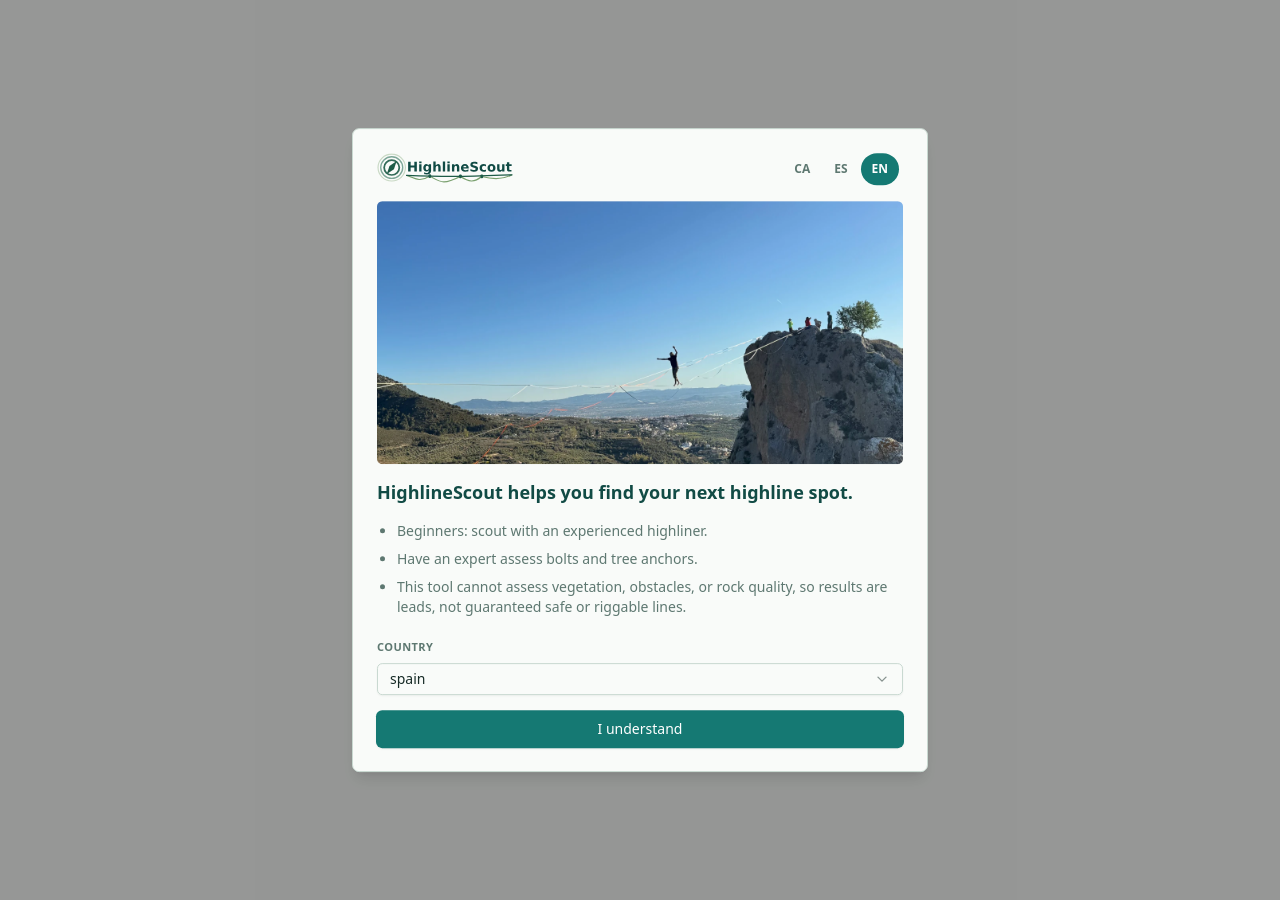
SafetyDisclaimerDialog › shows the active country and available countries
Click the dropdown named "Country".
click(408, 678)  # box left=377, top=663, right=903, bottom=695
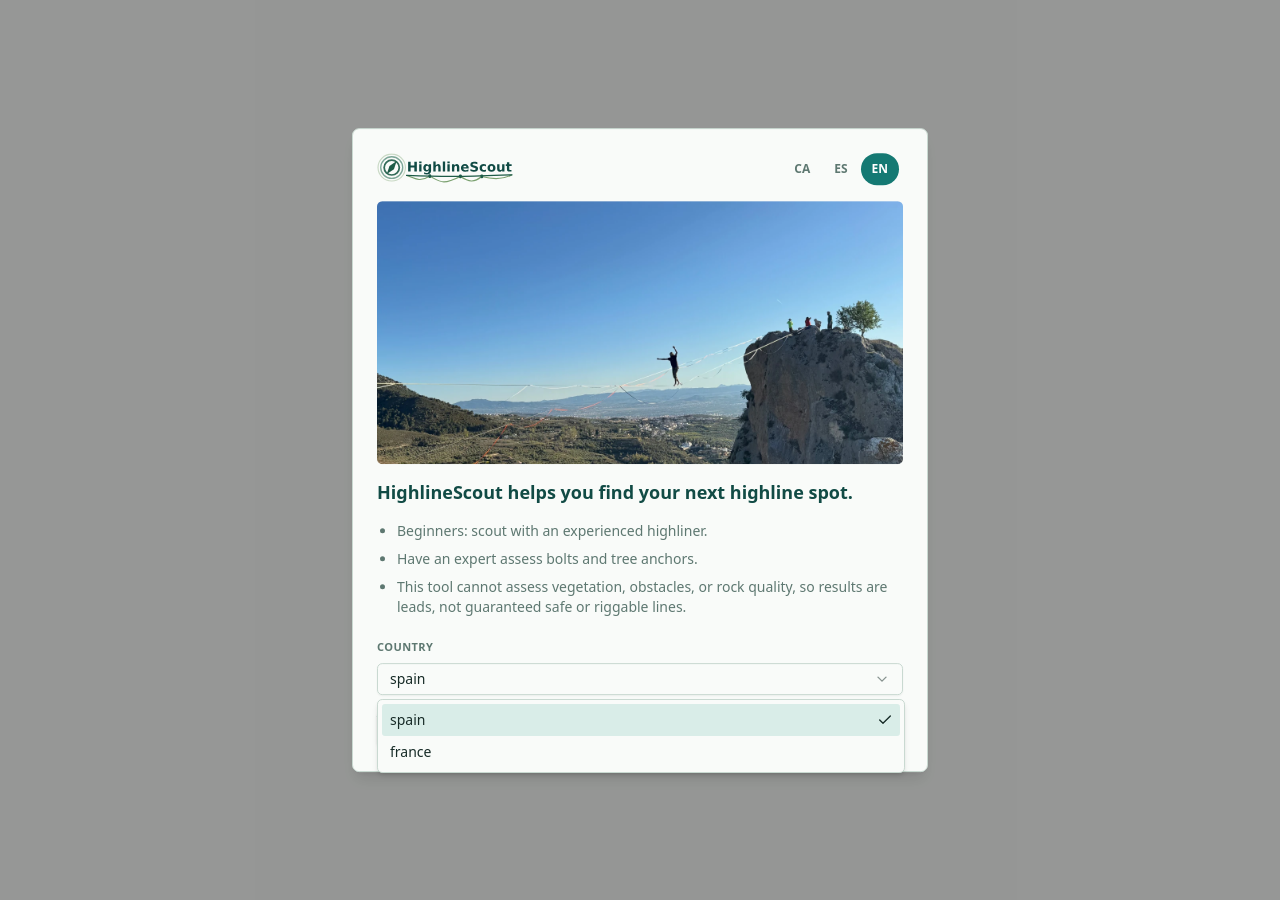
Expected: the option "spain" is shown, left=382, top=704, right=900, bottom=736
Expected: the option "france" is shown, left=390, top=742, right=432, bottom=761
